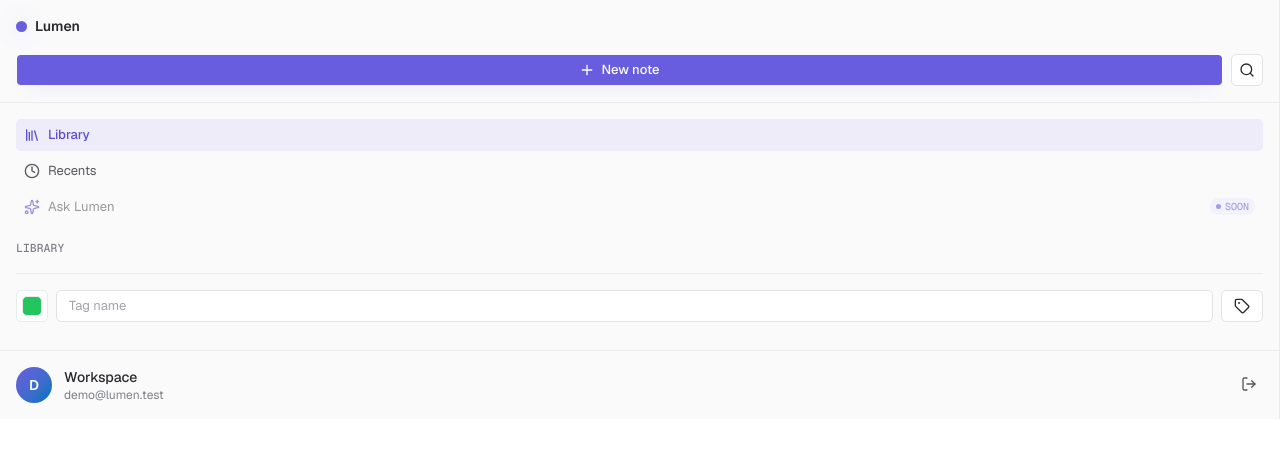
Test: LibrarySidebar › preserves the tag name and surfaces creation errors
Step 1. Type "Exam" into the field labelled "Tag name" → (634, 306), box [56, 290, 1213, 322]
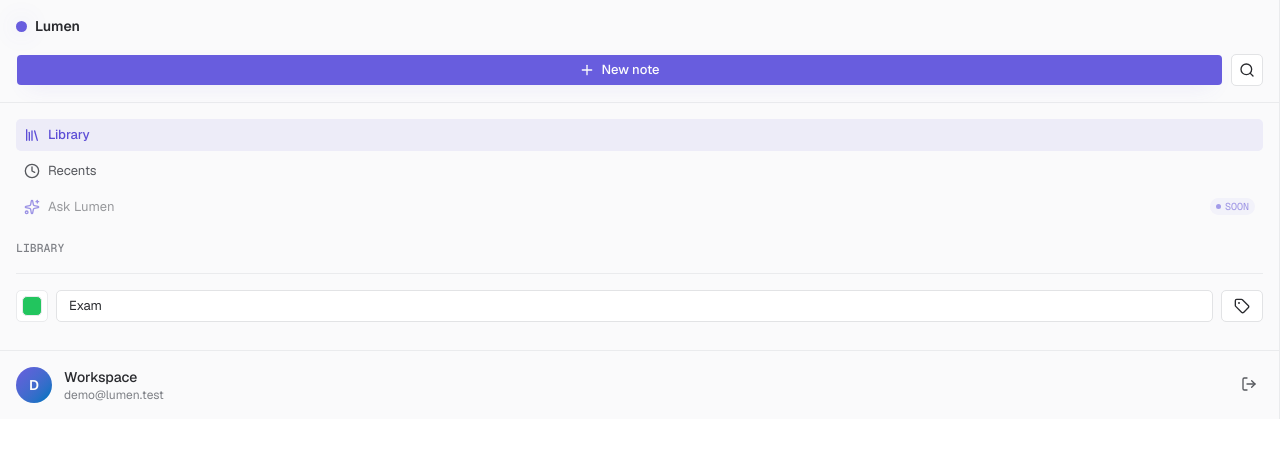
Step 2. Click the button named "Create tag" → (1242, 306), box [1221, 290, 1263, 322]
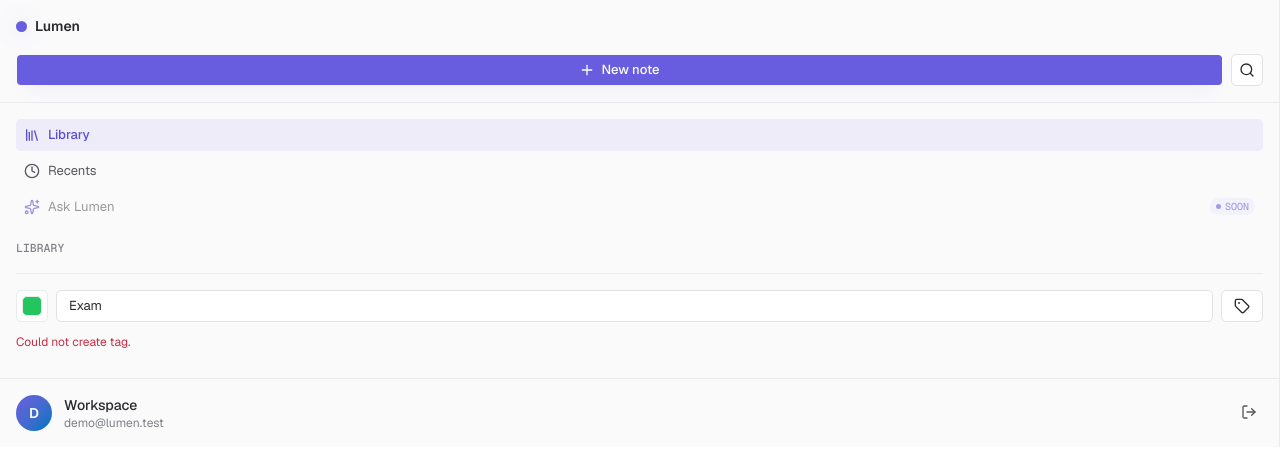
Expected: the message reads "Could not create tag.", [16, 334, 130, 350]
